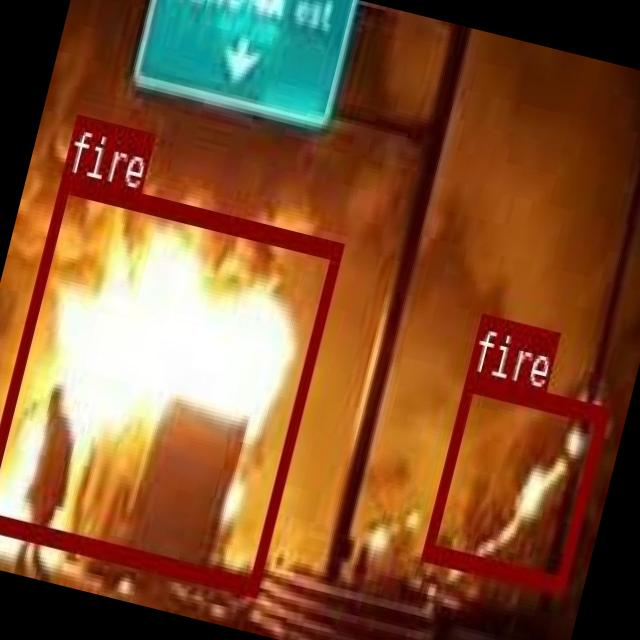fire: (0, 172, 341, 591), (422, 372, 606, 589)
